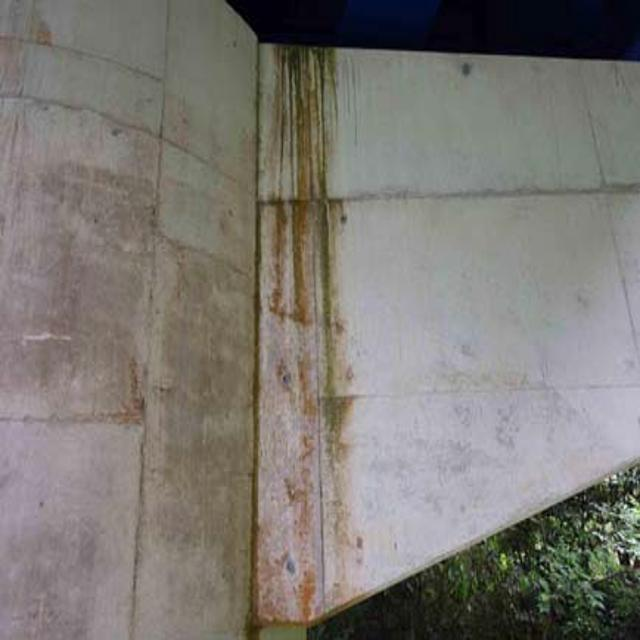leakage: (267, 34, 352, 622)
